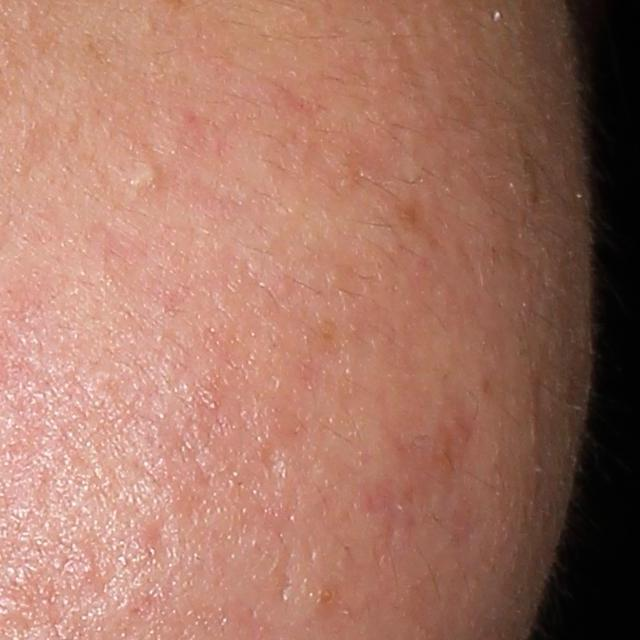comedo: (115, 151, 169, 201), (313, 581, 341, 612)
